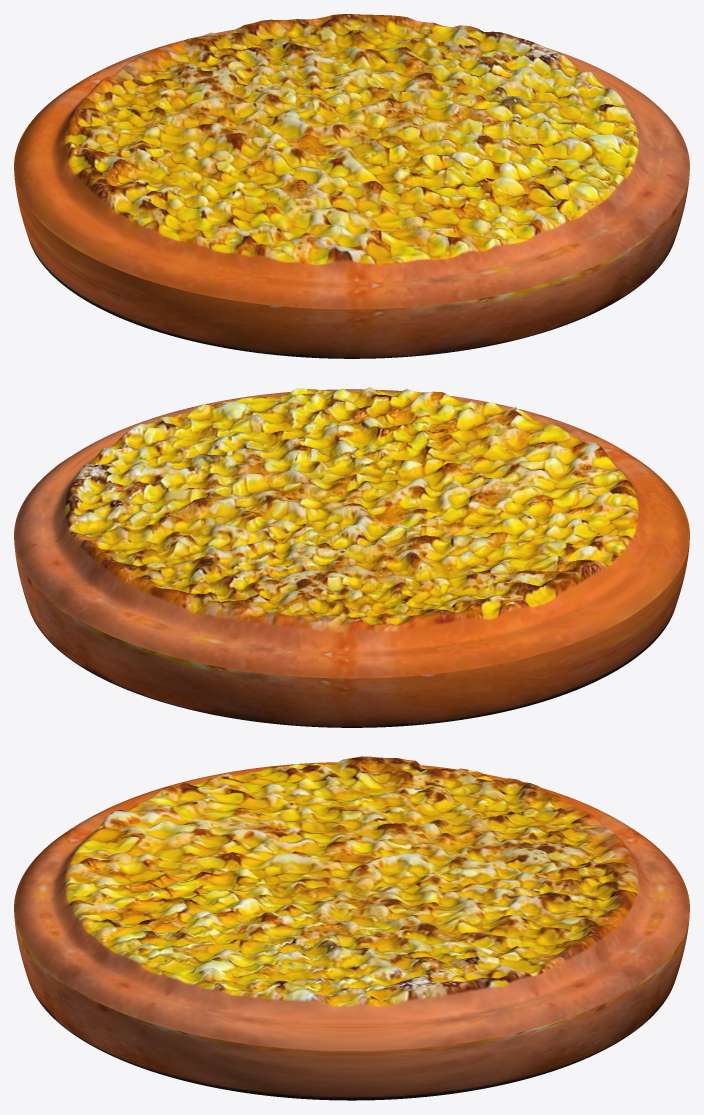
The model's file is chocluda.glb.
The picture shows the model from 3 angles, top to bottom: view 1: azimuth 30°, elevation 25°; view 2: azimuth 150°, elevation 25°; view 3: azimuth 270°, elevation 25°; orthographic projection.
Visible parts, largest first — view 1: Chocluda; view 2: Chocluda; view 3: Chocluda.
Boxes of the visible parts, box(x1,y1,x2,y2) form: Chocluda: box(14, 14, 689, 358); Chocluda: box(14, 387, 689, 727); Chocluda: box(14, 756, 689, 1100).
Bounding box in the file's own units: 0.36 × 0.0547 × 0.36.
2 materials, 2 textured.
